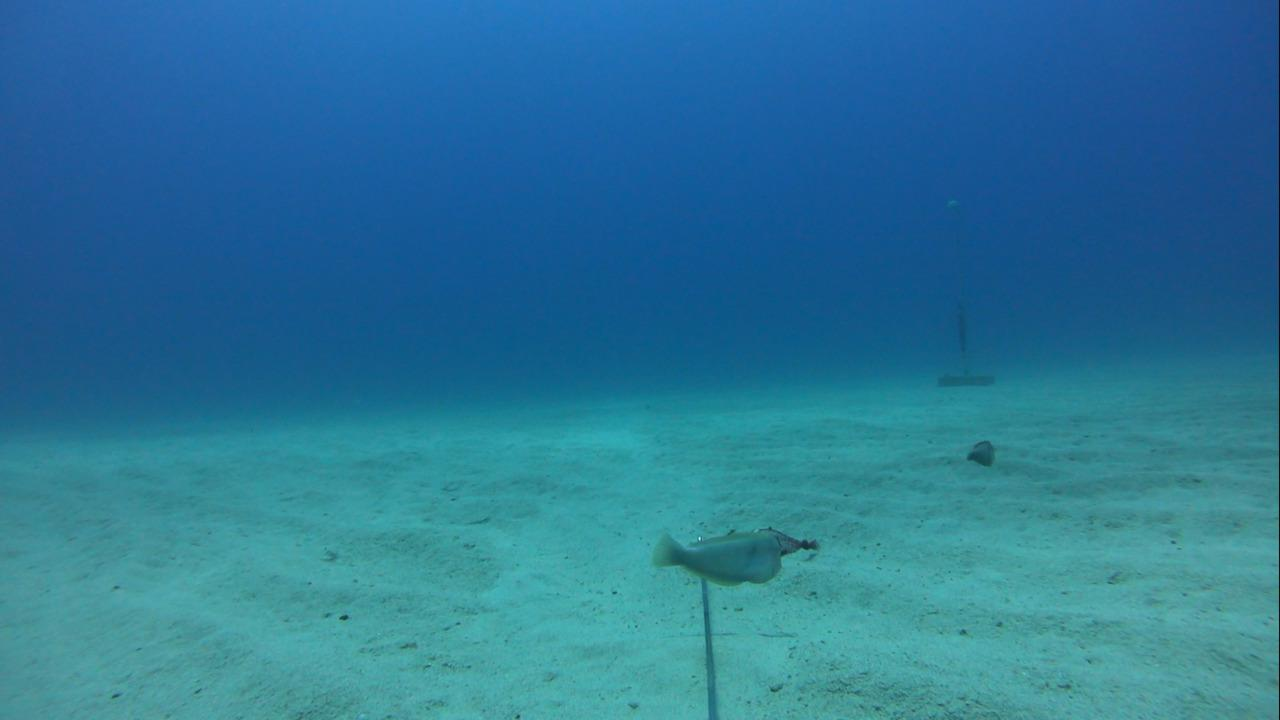raor: (642, 528, 784, 588), (959, 433, 998, 475)
